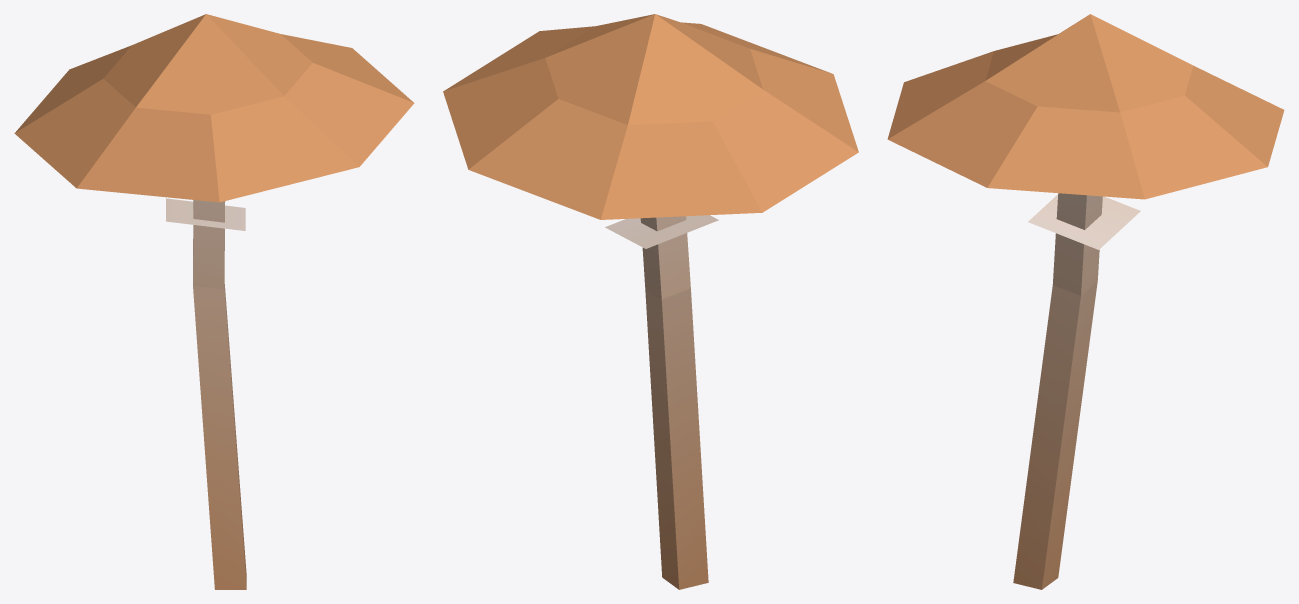
Rendered from Mushroom_i_01.fbx.
3 views of the same model, side by side, from view 1: azimuth 30°, elevation 25°; view 2: azimuth 150°, elevation 25°; view 3: azimuth 270°, elevation 25° (orthographic). The views are drawn at different scales.
Parts seen in each view (by area): view 1: Mushroom_i_01; view 2: Mushroom_i_01; view 3: Mushroom_i_01.
Boxes of the visible parts, x1,y1,x2,y2 form: Mushroom_i_01: [14, 14, 414, 589]; Mushroom_i_01: [443, 14, 858, 589]; Mushroom_i_01: [887, 14, 1284, 589].
Bounding box in the file's own units: 0.2463 × 0.3887 × 0.2465.
